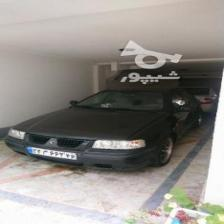plate: (25, 146, 76, 161)
